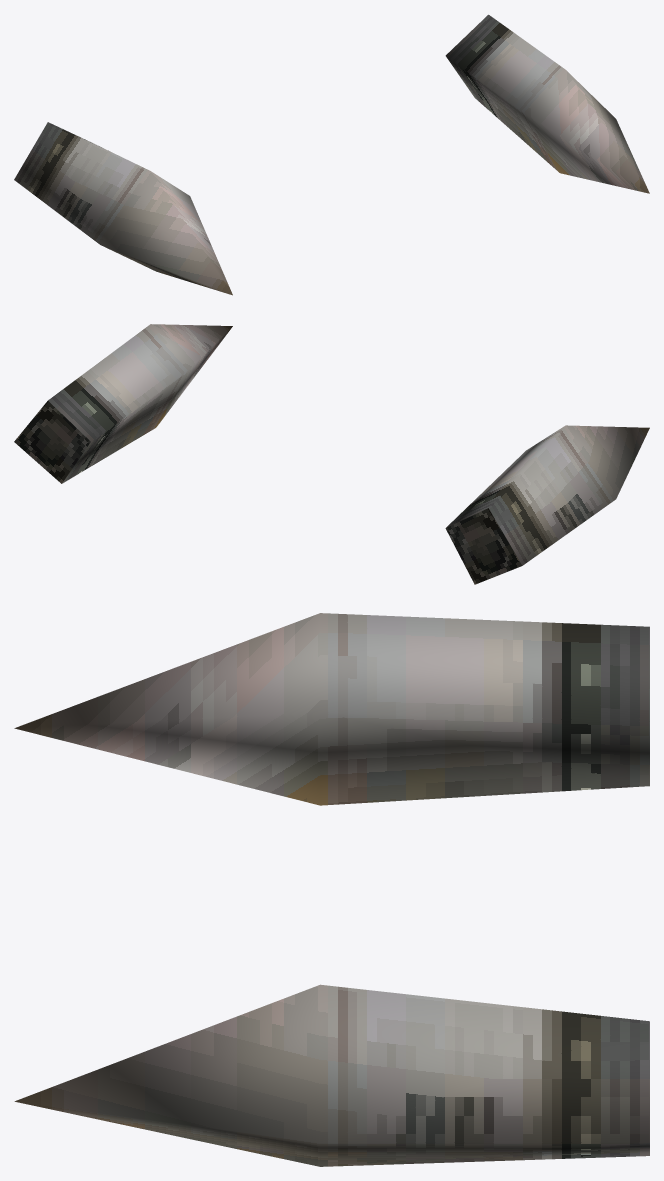
File: hutt_fighter_light_booster_s01_l3.fbx
3 renders of one model, top to bottom at view 1: azimuth 30°, elevation 25°; view 2: azimuth 150°, elevation 25°; view 3: azimuth 270°, elevation 25°, orthographic. The views are drawn at different scales.
Visible parts, largest first — view 1: mesh_node; view 2: mesh_node; view 3: mesh_node.
Part boxes in pixels (x1=…): mesh_node: x1=14, y1=14, x2=649, y2=295; mesh_node: x1=14, y1=324, x2=649, y2=584; mesh_node: x1=14, y1=613, x2=649, y2=1166.
Bounding box in the file's own units: 3.69 × 0.6986 × 2.15.
1 material, 1 textured.
